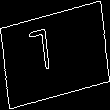L_S: (42, 27, 68, 83)
